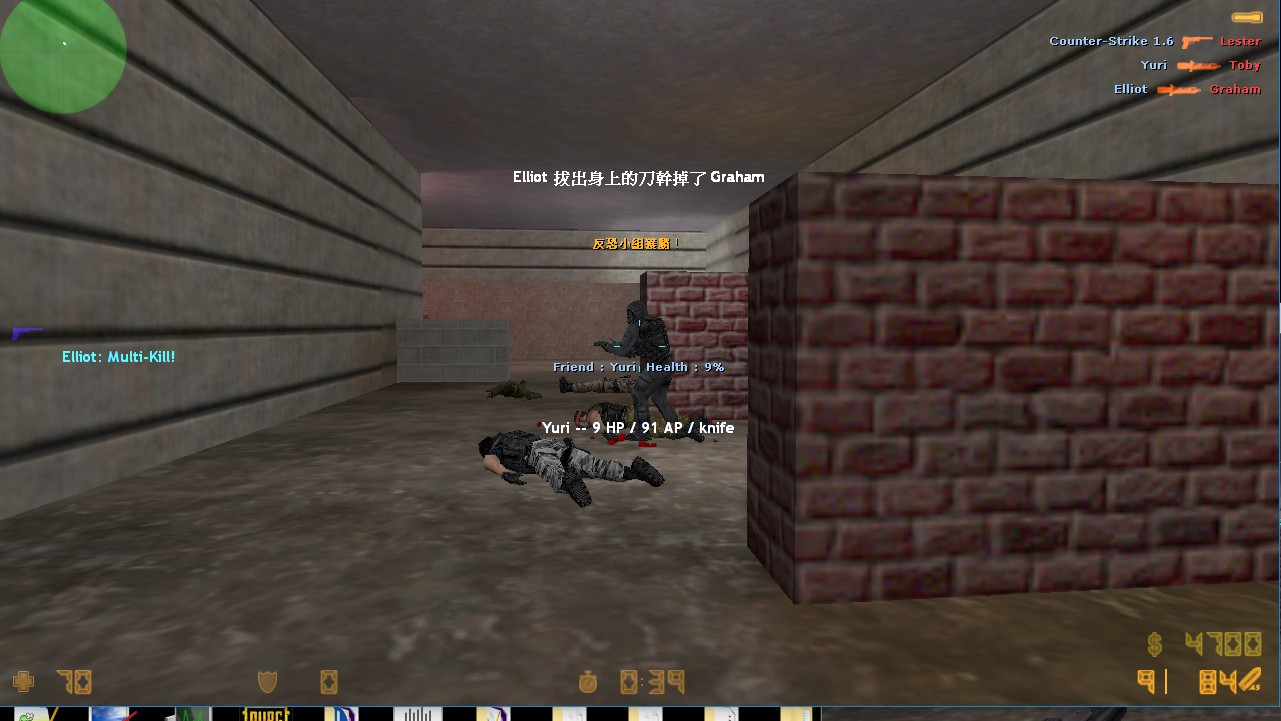person: (612, 304, 683, 434)
